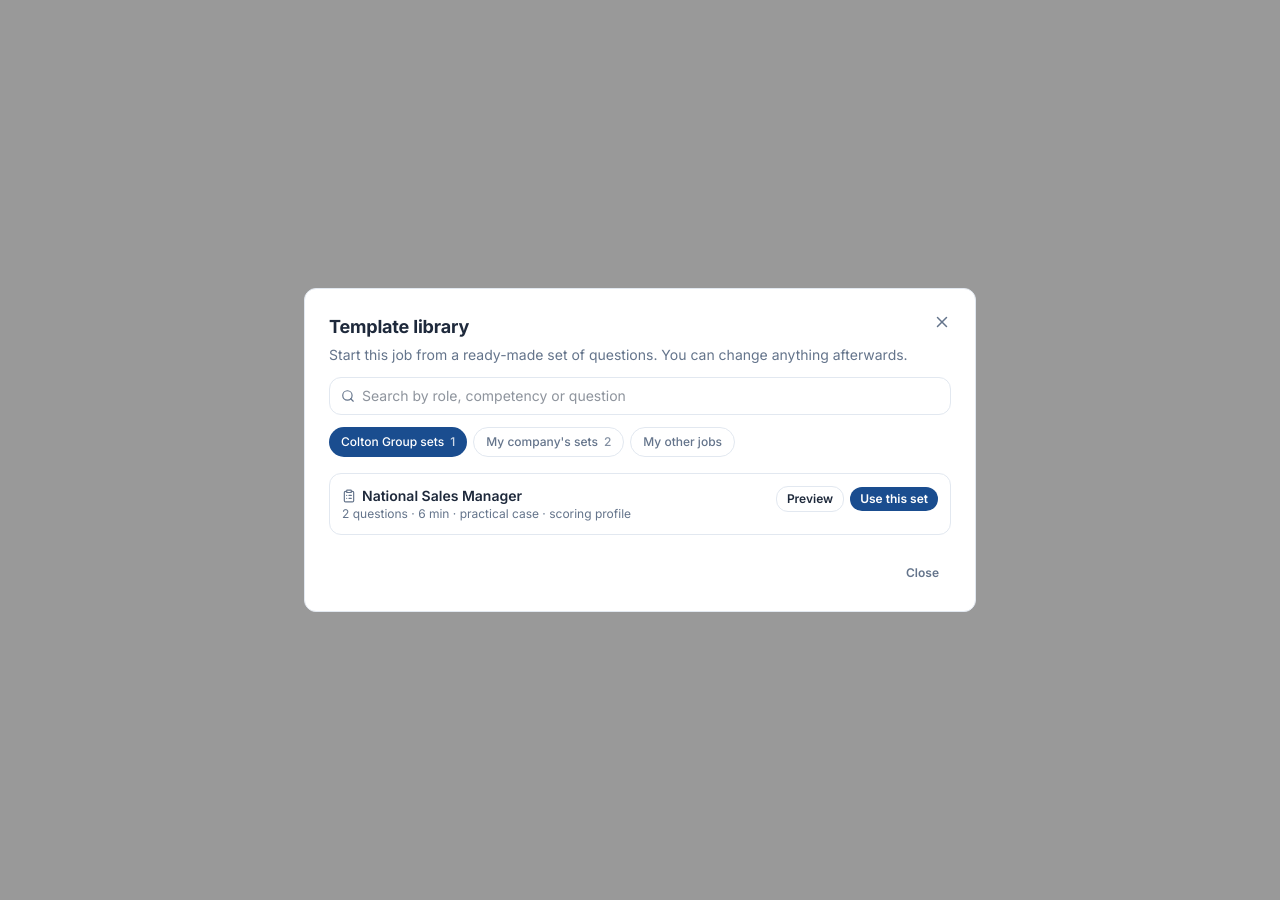
Test: QuestionLibraryModal › a company set › is deleted after asking, and disappears from the list
Click the tab "My company's sets2". click: (549, 442)
box: x1=473 y1=427 x2=624 y2=457
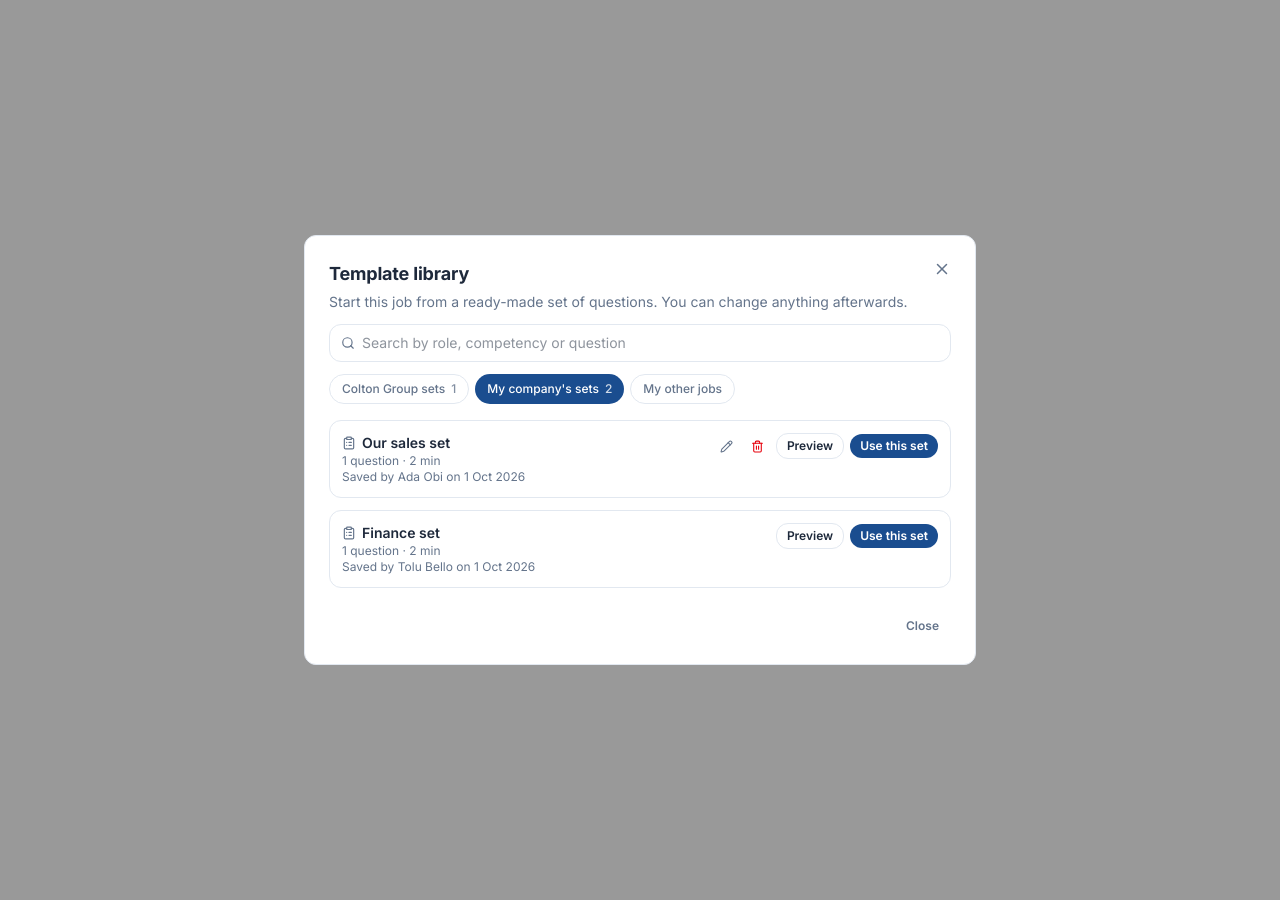
Click the button named "Delete Our sales set". click: (757, 446)
box: x1=745 y1=434 x2=770 y2=458
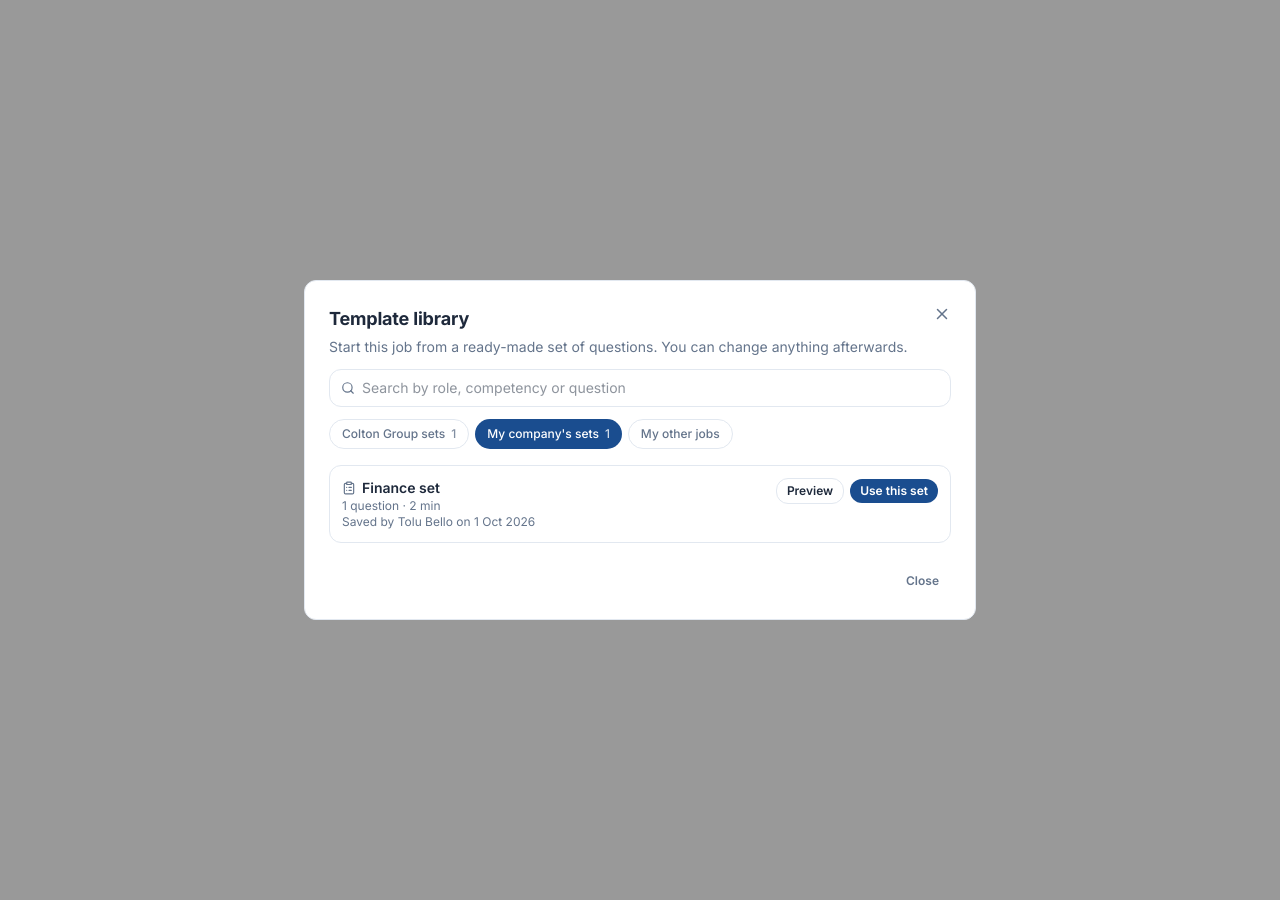
Expected: the text "Finance set" is shown, x1=362 y1=478 x2=440 y2=498
Expected: the text "Our sales set" is gone
